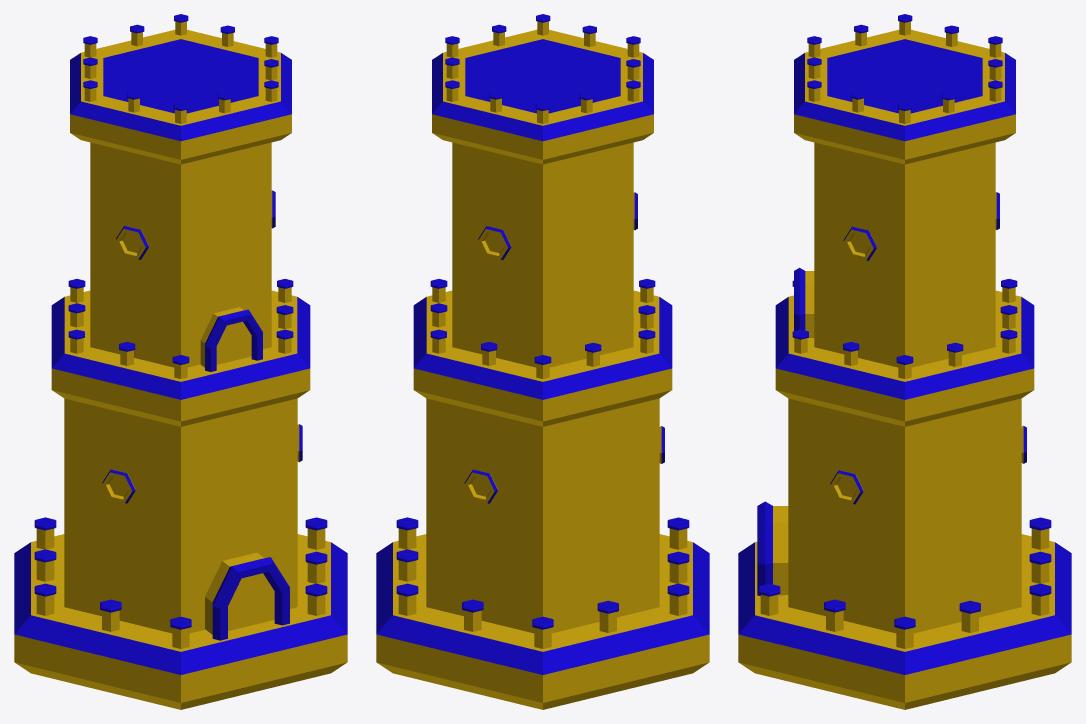
The model's file is Watch_Tower_Player_Blue.fbx.
3 views of the same model, side by side, from view 1: azimuth 30°, elevation 25°; view 2: azimuth 150°, elevation 25°; view 3: azimuth 270°, elevation 25° (orthographic).
Parts seen in each view (by area): view 1: Watch_Tower_Player_Blue; view 2: Watch_Tower_Player_Blue; view 3: Watch_Tower_Player_Blue.
Part boxes in pixels (bbox=[...]): Watch_Tower_Player_Blue: bbox=[14, 14, 347, 709]; Watch_Tower_Player_Blue: bbox=[376, 14, 709, 709]; Watch_Tower_Player_Blue: bbox=[738, 14, 1071, 709].
Size of the model in its own units: 250 by 412 by 217.
